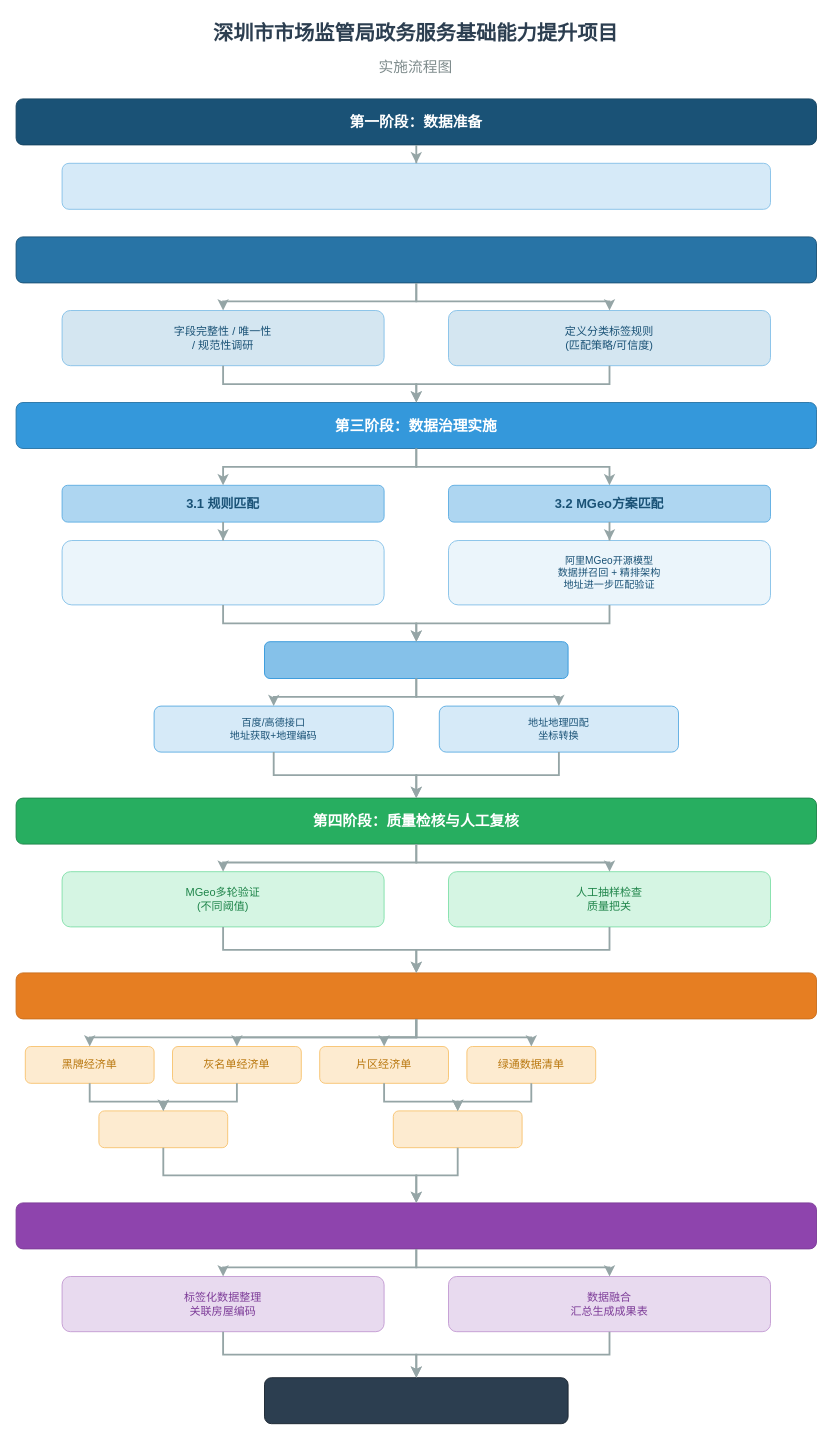
Image size: 833x1440. Some labels were removed from this diagram. The shapes that lost their labels are listed below. From the top down, each one's box as (x1, y1, x2, y2) in pixels, then its label:
(61, 162, 770, 209): 市监商事主体数据 (HA_MER_BASE) + 政法委网格数据 + 房屋编码数据 + 互联网接口数据
(15, 236, 816, 283): 第二阶段：数据调研与规则制定
(61, 540, 384, 605): 地址分词 L1-L5级由粗到细匹配 (全地址→省市区街道)
(264, 641, 568, 678): 3.3 互联网方案
(15, 972, 816, 1019): 第五阶段：效果评估 + 数据分类分级打标签
(98, 1110, 228, 1148): 灭失数据清单
(392, 1110, 522, 1148): 深汕数据清单
(15, 1202, 816, 1249): 第六阶段：数据入库
(264, 1377, 568, 1424): 项目完成
